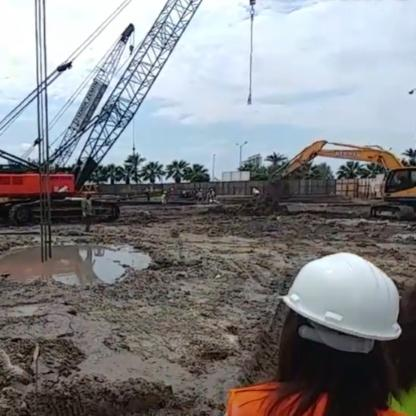helmet: (264, 247, 410, 403)
